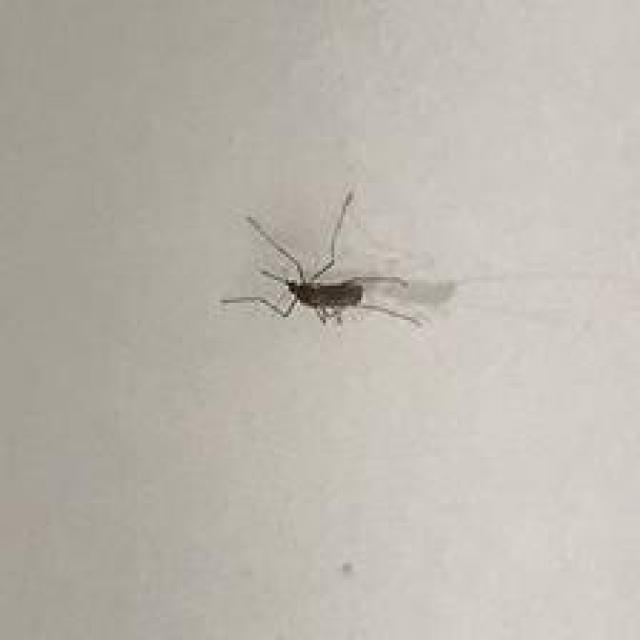Culex: (219, 188, 427, 332)
